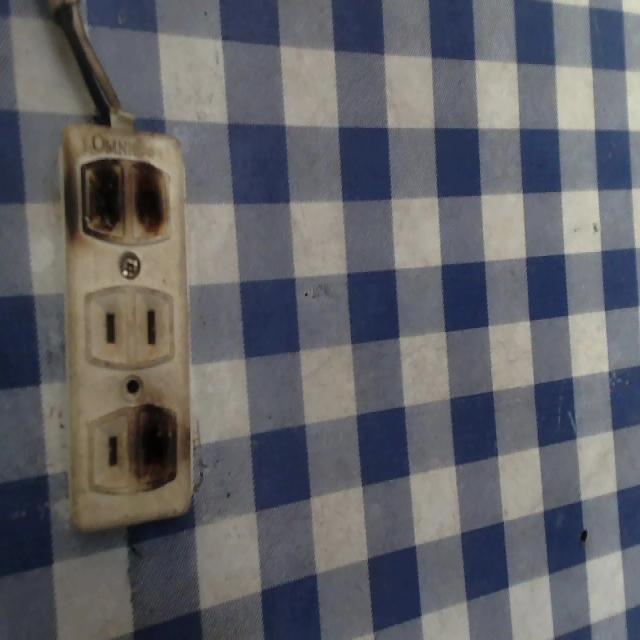-: (62, 145, 178, 252), (127, 400, 189, 500)
